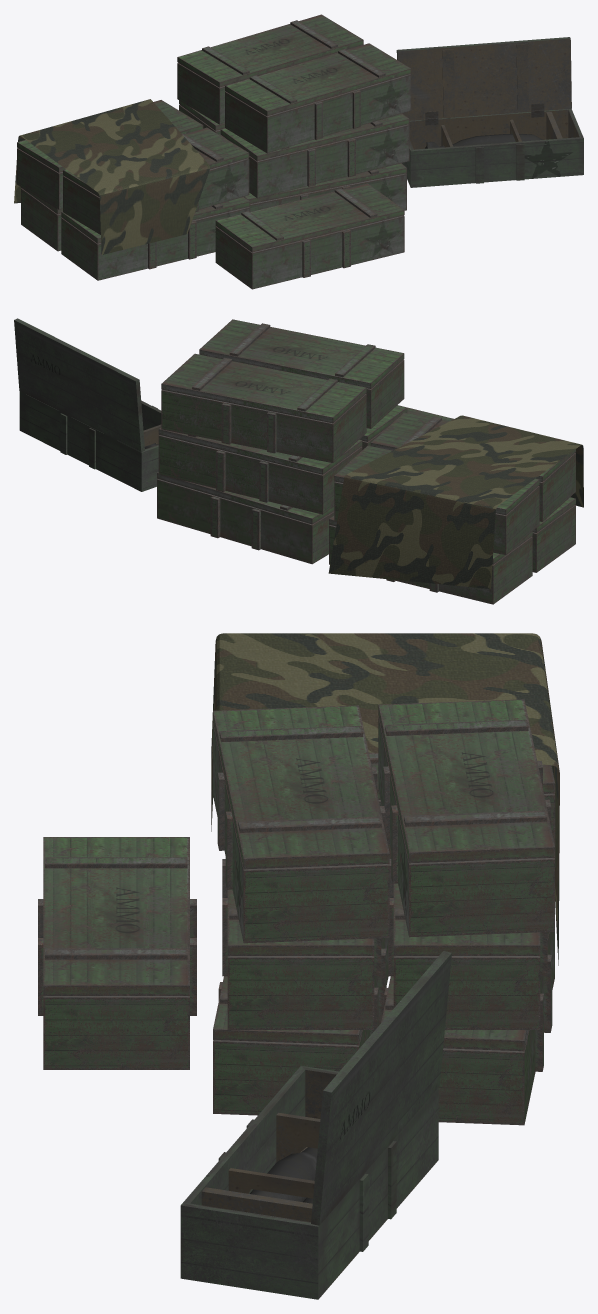
Rendered from loja.obj.
The picture shows the model from 3 angles, top to bottom: view 1: azimuth 30°, elevation 25°; view 2: azimuth 150°, elevation 25°; view 3: azimuth 270°, elevation 25°; orthographic projection. The views are drawn at different scales.
Visible parts, largest first — view 1: _ .002, Plane001_Material_#33_0, _, _ .020, _ .022, _ .012, _ .010, _ .018, _ .016, _ .004, _ .008, _ .014; view 2: Plane001_Material_#33_0, _ .022, _ .002, _ .014, _ .020, _ .006, _ .016, _ .018, _ .008, _ .010, _ .012; view 3: _ .002, _ .020, _ .022, _, Plane001_Material_#33_0, _ .012, _ .014, _ .006, _ .004.
Boxes of the visible parts, <box> form: _ .002: <box>396,37,583,187</box>; Plane001_Material_#33_0: <box>14,99,209,254</box>; _: <box>215,183,404,289</box>; _ .020: <box>225,43,411,153</box>; _ .022: <box>177,14,363,124</box>; _ .012: <box>220,113,409,198</box>; _ .010: <box>61,196,250,280</box>; _ .018: <box>63,127,249,234</box>; _ .016: <box>17,100,203,209</box>; _ .004: <box>244,163,406,211</box>; _ .008: <box>21,187,62,251</box>; _ .014: <box>179,100,224,135</box>; Plane001_Material_#33_0: <box>328,415,583,588</box>; _ .022: <box>161,353,366,462</box>; _ .002: <box>14,318,161,491</box>; _ .014: <box>158,427,362,514</box>; _ .020: <box>199,319,404,428</box>; _ .006: <box>157,472,334,564</box>; _ .016: <box>334,445,539,554</box>; _ .018: <box>370,412,575,521</box>; _ .008: <box>329,515,532,604</box>; _ .010: <box>532,497,575,572</box>; _ .012: <box>359,405,407,449</box>; _ .002: <box>180,951,451,1299</box>; _ .020: <box>213,705,389,943</box>; _ .022: <box>378,699,554,937</box>; _: <box>38,837,196,1069</box>; Plane001_Material_#33_0: <box>211,633,559,965</box>; _ .012: <box>222,859,381,1029</box>; _ .014: <box>388,859,547,1029</box>; _ .006: <box>381,932,554,1125</box>; _ .004: <box>213,938,388,1115</box>.
Bounding box in the file's own units: 157 × 41.29 × 70.11.
3 materials, 3 textured.
